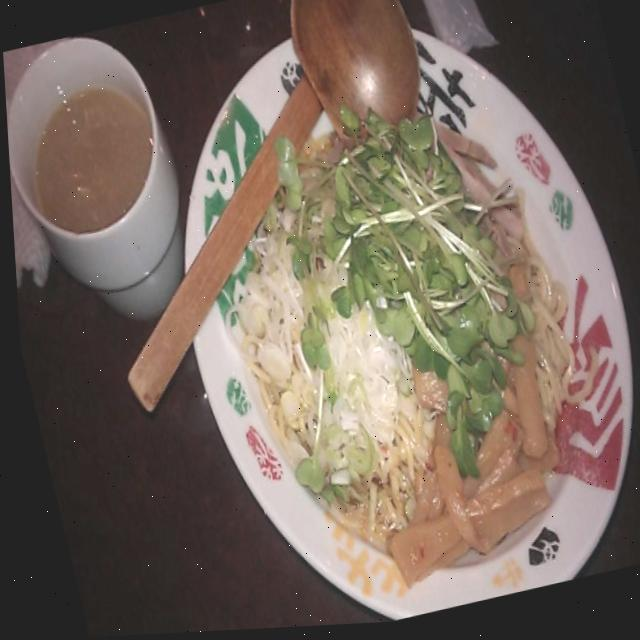面条主食: (78, 0, 640, 637)
